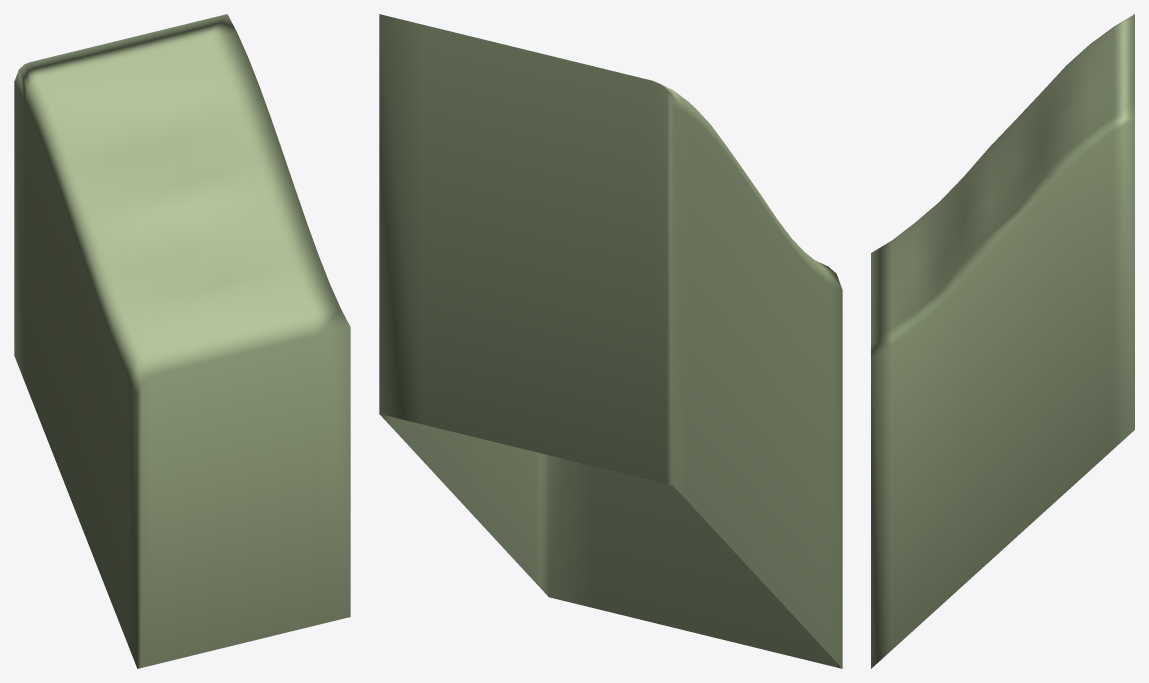
Rendered from ground-ramp-l-12.glb.
3 views of the same model, side by side, from view 1: azimuth 30°, elevation 25°; view 2: azimuth 150°, elevation 25°; view 3: azimuth 270°, elevation 25° (orthographic). The views are drawn at different scales.
Parts seen in each view (by area): view 1: ground-ramp-l-12; view 2: ground-ramp-l-12; view 3: ground-ramp-l-12.
Boxes of the visible parts, x1=… form: ground-ramp-l-12: x1=14, y1=14, x2=350, y2=668; ground-ramp-l-12: x1=379, y1=14, x2=842, y2=668; ground-ramp-l-12: x1=871, y1=14, x2=1134, y2=668.
Size of the model in its own units: 1 by 2.3 by 1.
